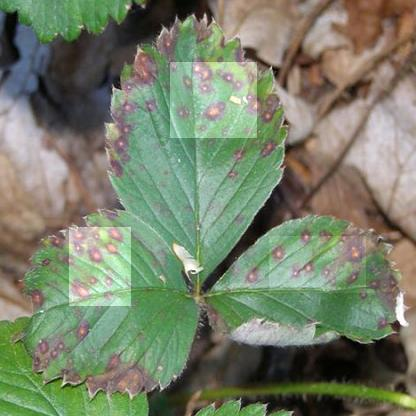black-spot: (170, 62, 257, 138), (269, 236, 366, 293), (69, 227, 131, 306)
